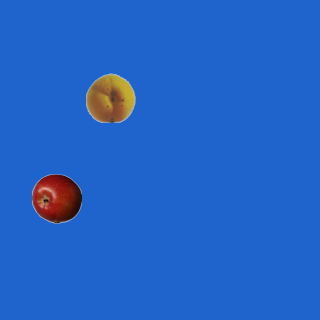Apple Braeburn: (31, 173, 81, 223)
Peach 2: (85, 72, 135, 122)
